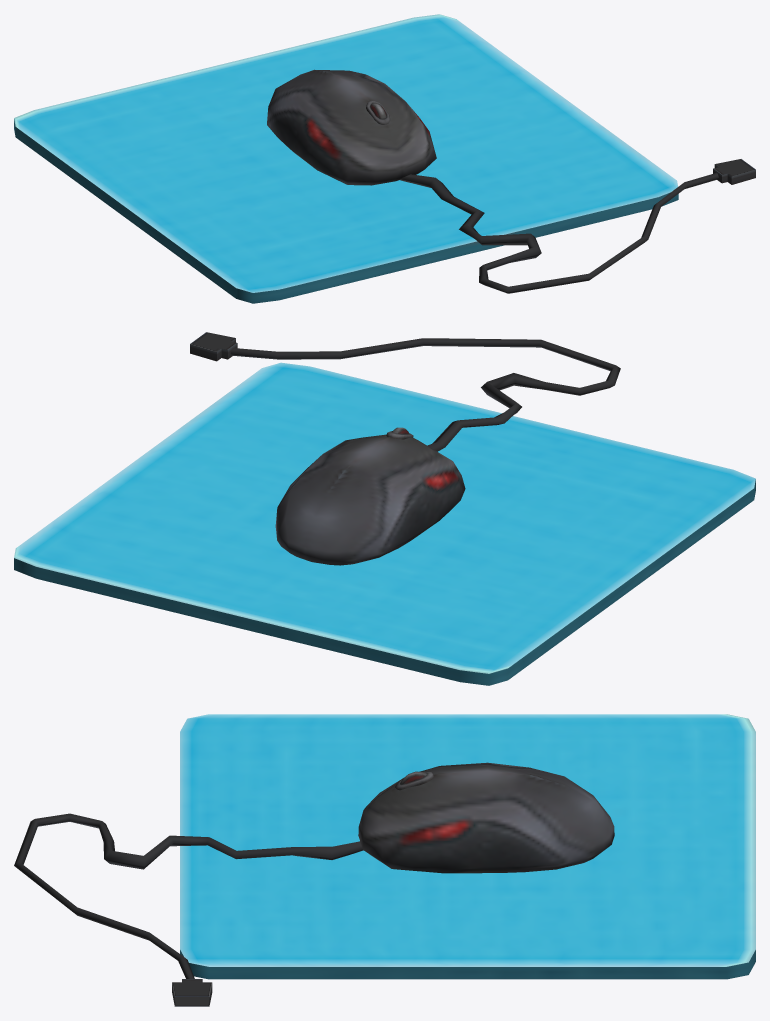
The model's file is ZhiBanShi_01_shubiao_01.FBX.
3 views of the same model, one above another, from view 1: azimuth 30°, elevation 25°; view 2: azimuth 150°, elevation 25°; view 3: azimuth 270°, elevation 25° (orthographic). The views are drawn at different scales.
Visible parts, largest first — view 1: ZhiBanShi_01_shubiao_01; view 2: ZhiBanShi_01_shubiao_01; view 3: ZhiBanShi_01_shubiao_01.
Boxes of the visible parts, bbox=[...] form: ZhiBanShi_01_shubiao_01: bbox=[14, 14, 755, 303]; ZhiBanShi_01_shubiao_01: bbox=[14, 332, 755, 685]; ZhiBanShi_01_shubiao_01: bbox=[14, 714, 755, 1006].
Bounding box in the file's own units: 138 × 19.35 × 149.
